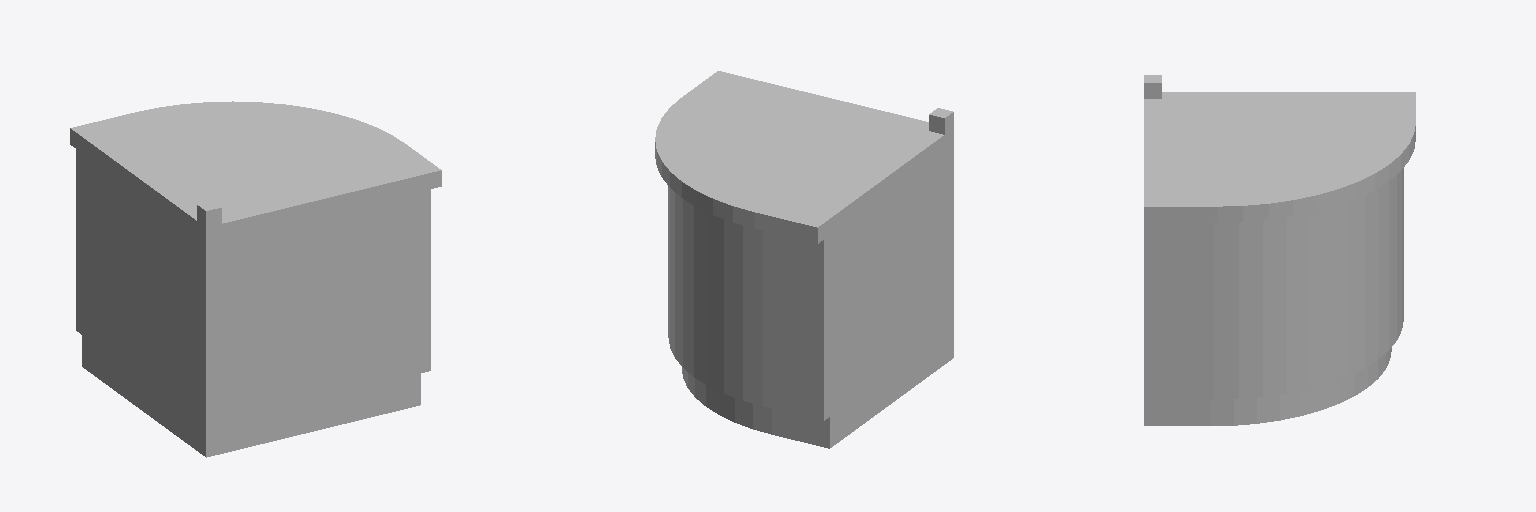
The model's file is kitchenCabinetCornerRound.obj.
3 views of the same model, side by side, from view 1: azimuth 30°, elevation 25°; view 2: azimuth 150°, elevation 25°; view 3: azimuth 270°, elevation 25° (orthographic).
Parts seen in each view (by area): view 1: kitchenCabinetCornerRound; view 2: kitchenCabinetCornerRound; view 3: kitchenCabinetCornerRound.
Boxes of the visible parts, x1=… form: kitchenCabinetCornerRound: x1=70, y1=101, x2=441, y2=457; kitchenCabinetCornerRound: x1=655, y1=71, x2=953, y2=448; kitchenCabinetCornerRound: x1=1144, y1=75, x2=1415, y2=425.
Bounding box in the file's own units: 0.45 × 0.45 × 0.45.